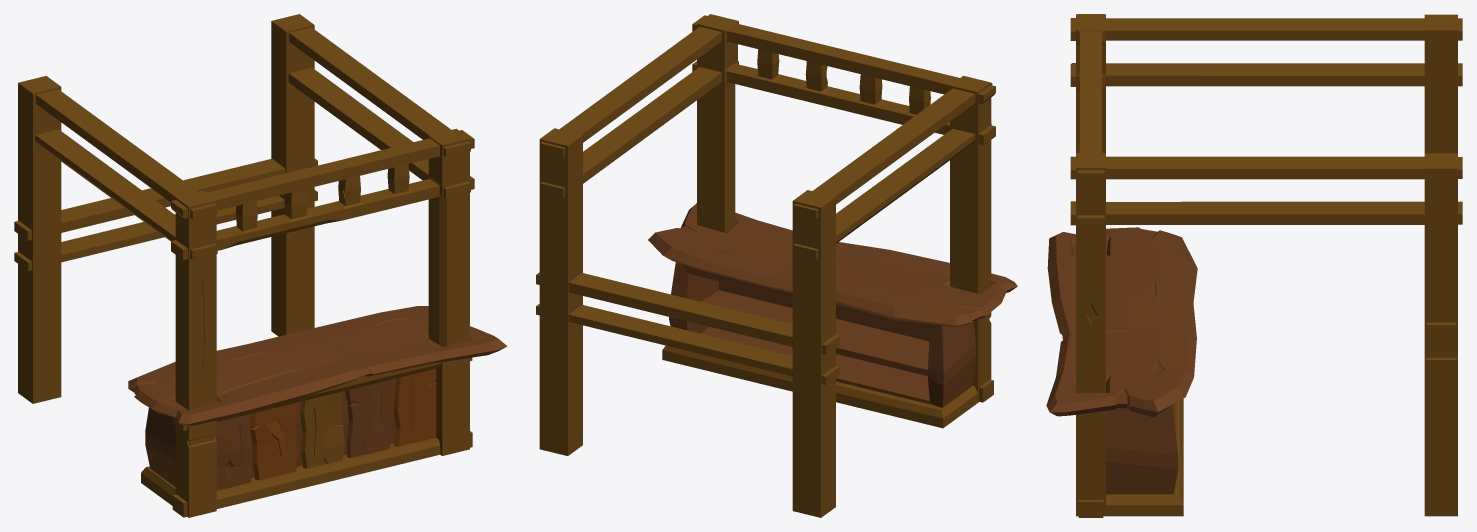
File: TavernBar.fbx
3 views of the same model, side by side, from view 1: azimuth 30°, elevation 25°; view 2: azimuth 150°, elevation 25°; view 3: azimuth 270°, elevation 25° (orthographic). The views are drawn at different scales.
Parts seen in each view (by area): view 1: BarConstruction, BarPlank, FrontPlanks, BarInside; view 2: BarConstruction, BarPlank, BarInside; view 3: BarConstruction, BarPlank, BarInside.
Boxes of the visible parts, x1,y1,x2,y2 form: BarConstruction: [14, 14, 474, 517]; BarPlank: [128, 306, 507, 425]; FrontPlanks: [215, 368, 436, 490]; BarInside: [145, 378, 395, 486]; BarConstruction: [536, 14, 995, 517]; BarPlank: [648, 203, 1017, 326]; BarInside: [669, 262, 975, 407]; BarConstruction: [1070, 14, 1462, 517]; BarPlank: [1046, 227, 1197, 417]; BarInside: [1106, 402, 1178, 494].
Bounding box in the file's own units: 345 × 309 × 334.
